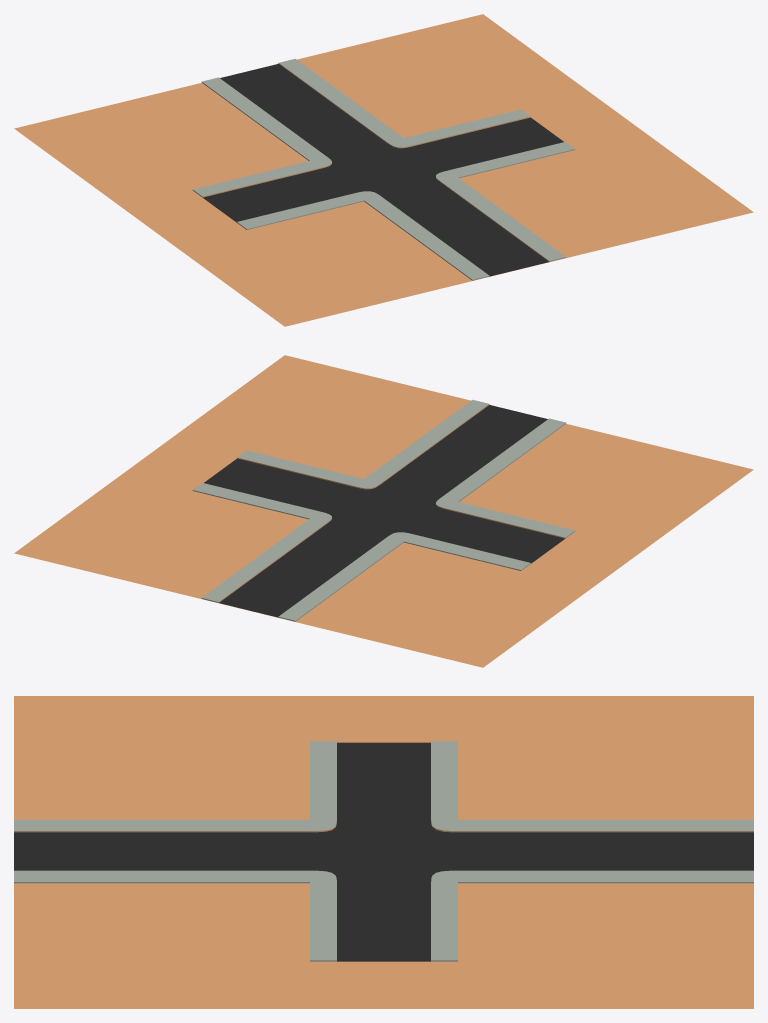
3 renders of one model, top to bottom at view 1: azimuth 30°, elevation 25°; view 2: azimuth 150°, elevation 25°; view 3: azimuth 270°, elevation 25°, orthographic. The views are drawn at different scales.
Visible parts, largest first — view 1: Plane; view 2: Plane; view 3: Plane.
Boxes of the visible parts, box(x1,y1,x2,y2) form: Plane: box(14, 14, 753, 326); Plane: box(14, 355, 753, 667); Plane: box(14, 696, 753, 1008).
Size of the model in its own units: 10000 by 25 by 10000.
